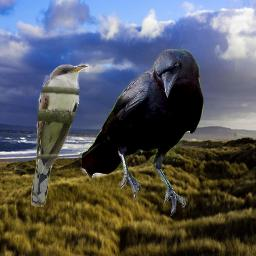Crow: (82, 49, 204, 216)
Cuckoo: (31, 64, 89, 207)
